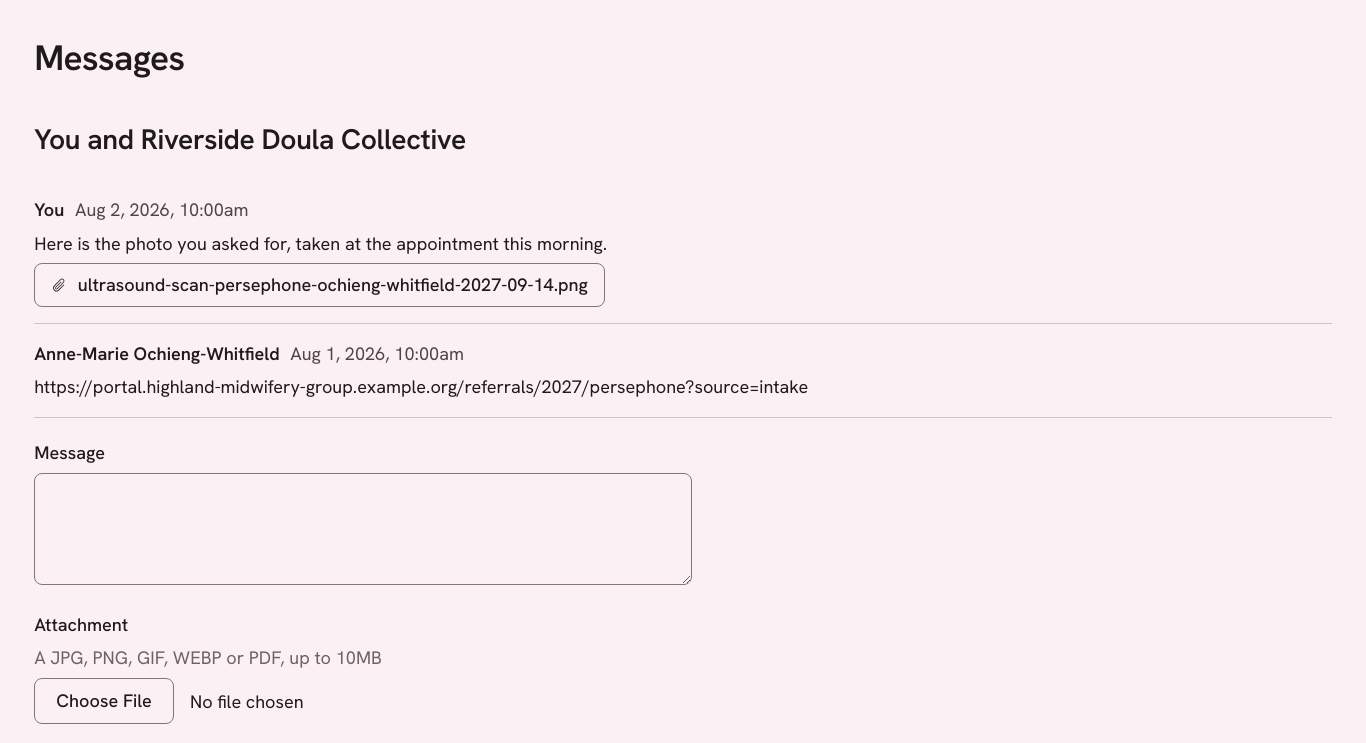
Test: The Client-portal message thread, after Send (#2210) › says the message went to the Practice, where a reply shows, and that it is not for anything urgent
The width and height of the screenshot is (1366, 743).
Type "Did that go through?" into the text box labelled "Message".
click(363, 529); type("Did that go through?")  # box [34,472,692,585]
(page scrolled)
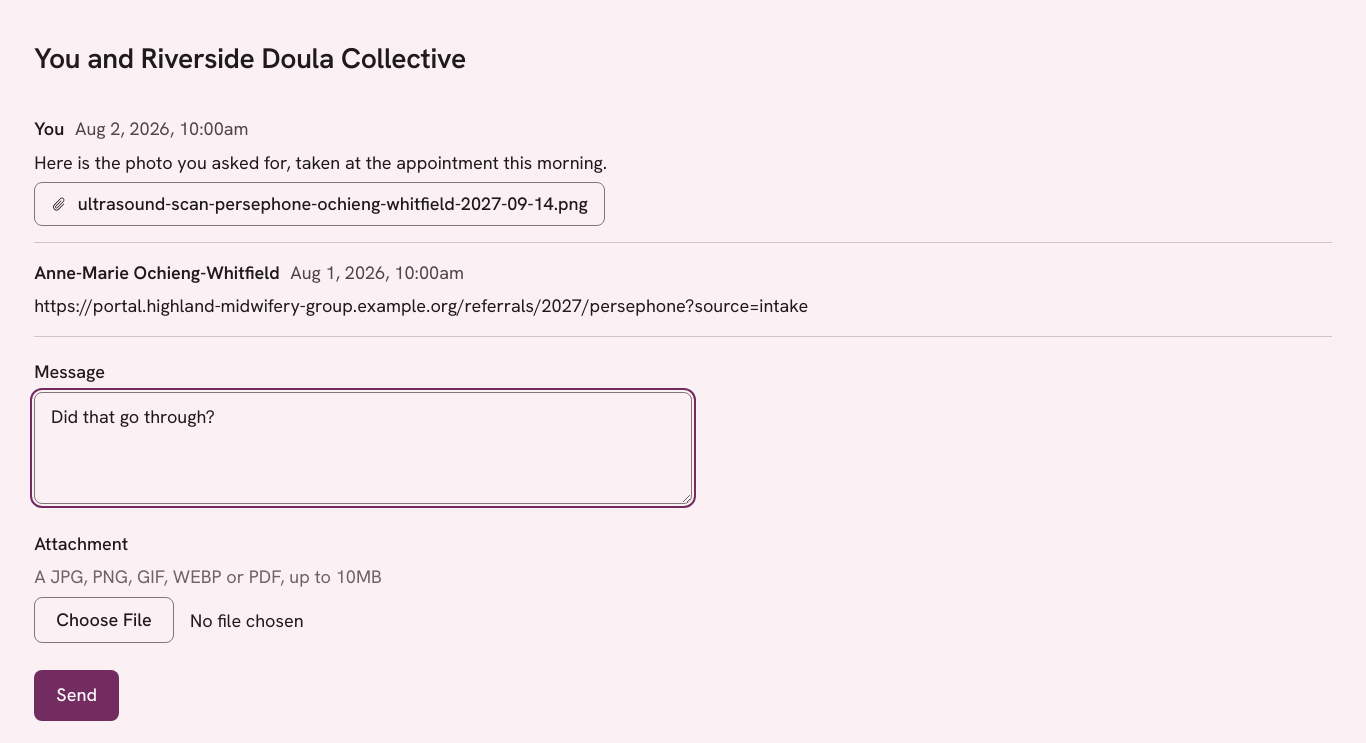
Click the button "Send".
click(77, 695)  # box [34,670,119,721]
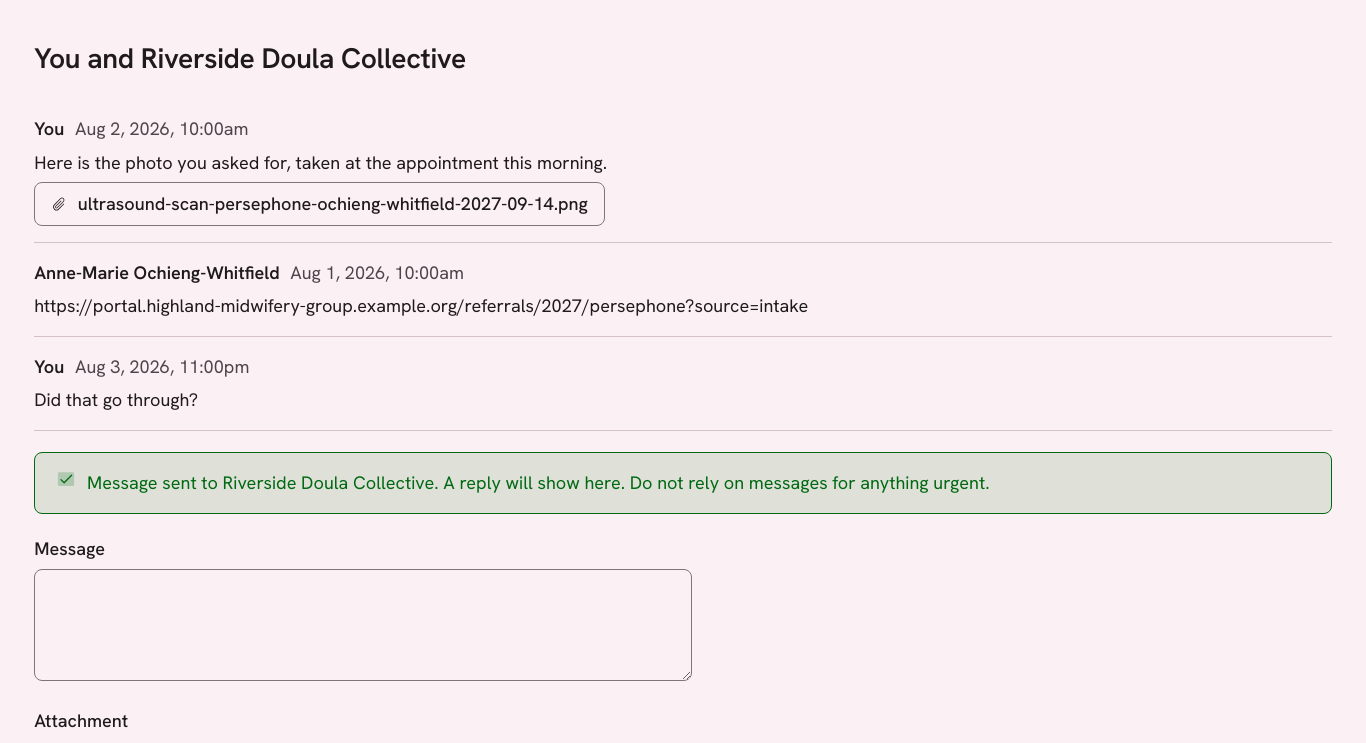
Expected: the message shows "Message sent to Riverside Doula Collective. A reply will show here. Do not rely on messages for anything urgent.", [87,471,990,494]
